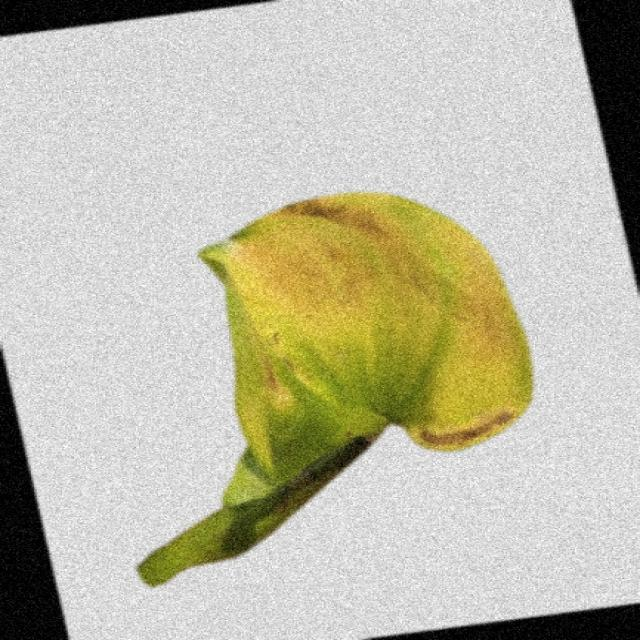daun berpenyakit kuning: (139, 192, 532, 584)
